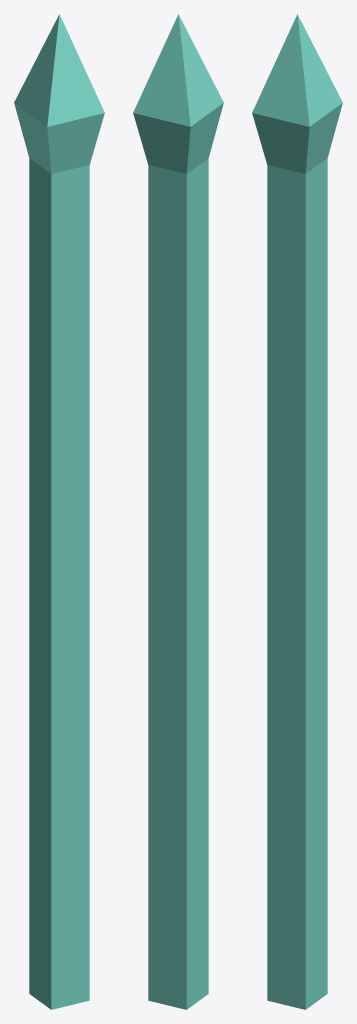
The model's file is ironFenceBar.glb.
The picture shows the model from 3 angles, left to right: view 1: azimuth 30°, elevation 25°; view 2: azimuth 150°, elevation 25°; view 3: azimuth 330°, elevation 25°; orthographic projection.
Visible parts, largest first — view 1: ironFenceBar; view 2: ironFenceBar; view 3: ironFenceBar.
Part boxes in pixels (<box>): ironFenceBar: <box>14,14,104,1009</box>; ironFenceBar: <box>133,14,223,1009</box>; ironFenceBar: <box>252,14,342,1009</box>.
Bounding box in the file's own units: 0.045 × 0.7339 × 0.045.
